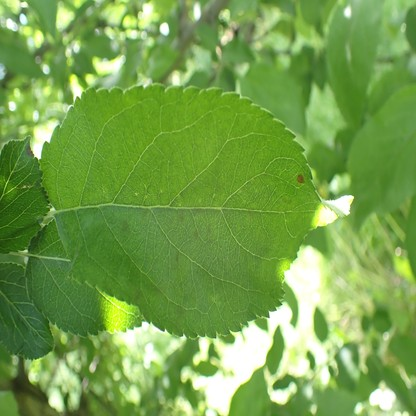frogeye_leaf_spot: (26, 146, 34, 156), (297, 174, 305, 183)
scab: (114, 213, 133, 243), (169, 245, 188, 273), (169, 302, 184, 327), (142, 284, 161, 297), (173, 209, 185, 226), (131, 287, 142, 301), (191, 229, 200, 245), (192, 205, 204, 216), (281, 197, 295, 206), (243, 206, 253, 218), (205, 225, 214, 238)
